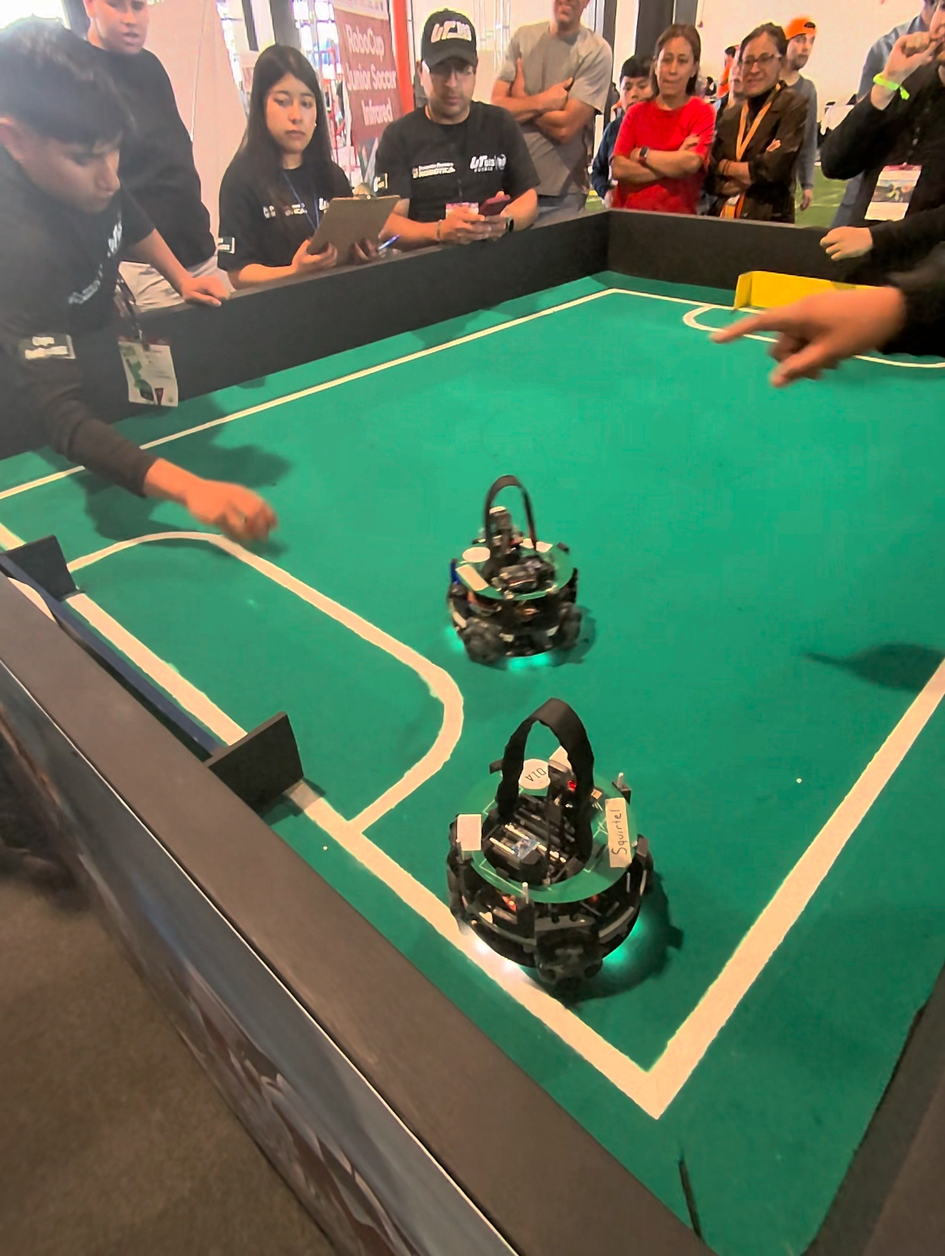Robot: (431, 672, 664, 999), (448, 470, 586, 671)
